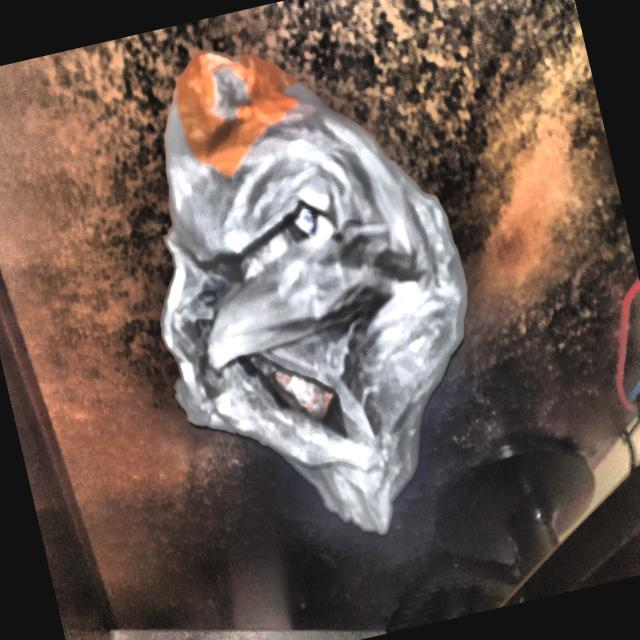plastic bag: (95, 0, 530, 589)
